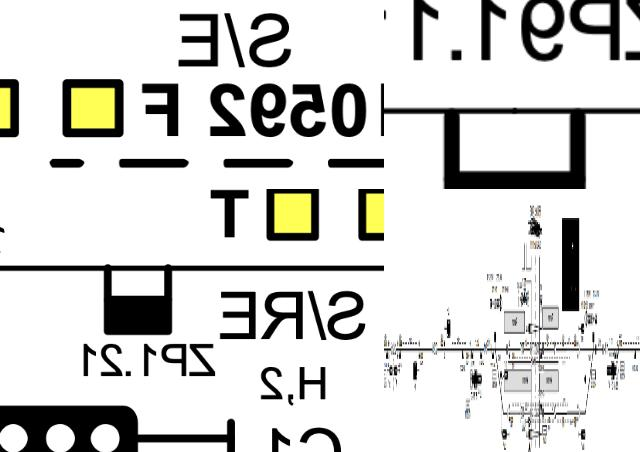mainsignal: (0, 397, 245, 452), (578, 428, 586, 443), (502, 427, 509, 440)
radzaehler: (418, 88, 638, 189), (100, 261, 178, 339), (491, 347, 494, 362), (471, 348, 474, 361), (398, 349, 401, 360), (386, 348, 388, 361), (614, 348, 616, 361), (480, 347, 482, 358)
trackjoint: (542, 408, 544, 421), (529, 344, 531, 357), (529, 406, 531, 419), (506, 406, 508, 419), (506, 344, 508, 357), (602, 345, 604, 356), (578, 345, 580, 356), (542, 344, 544, 353), (579, 406, 580, 419), (595, 346, 596, 355)
tracknumber: (431, 338, 439, 359), (390, 339, 396, 358), (483, 340, 487, 357), (520, 341, 524, 356), (520, 405, 524, 420), (605, 340, 608, 357), (554, 401, 556, 424), (554, 339, 556, 358)
weiche: (494, 330, 496, 350), (592, 331, 594, 349)
